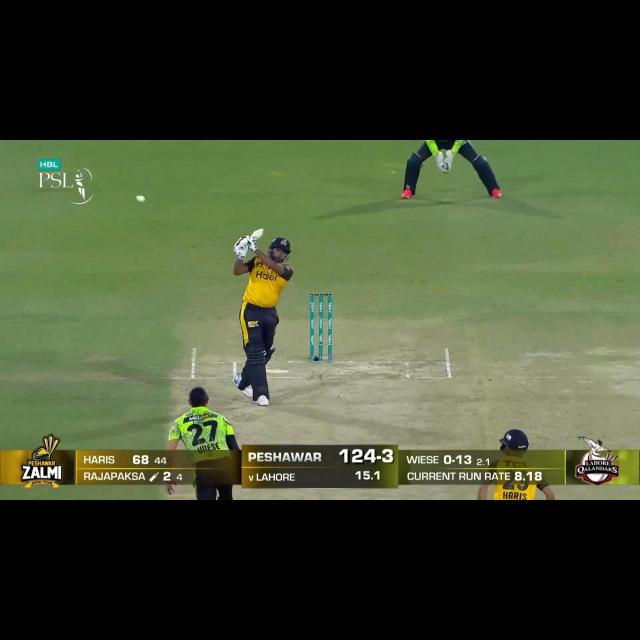bat: (251, 224, 269, 241)
toe: (258, 228, 264, 238)
